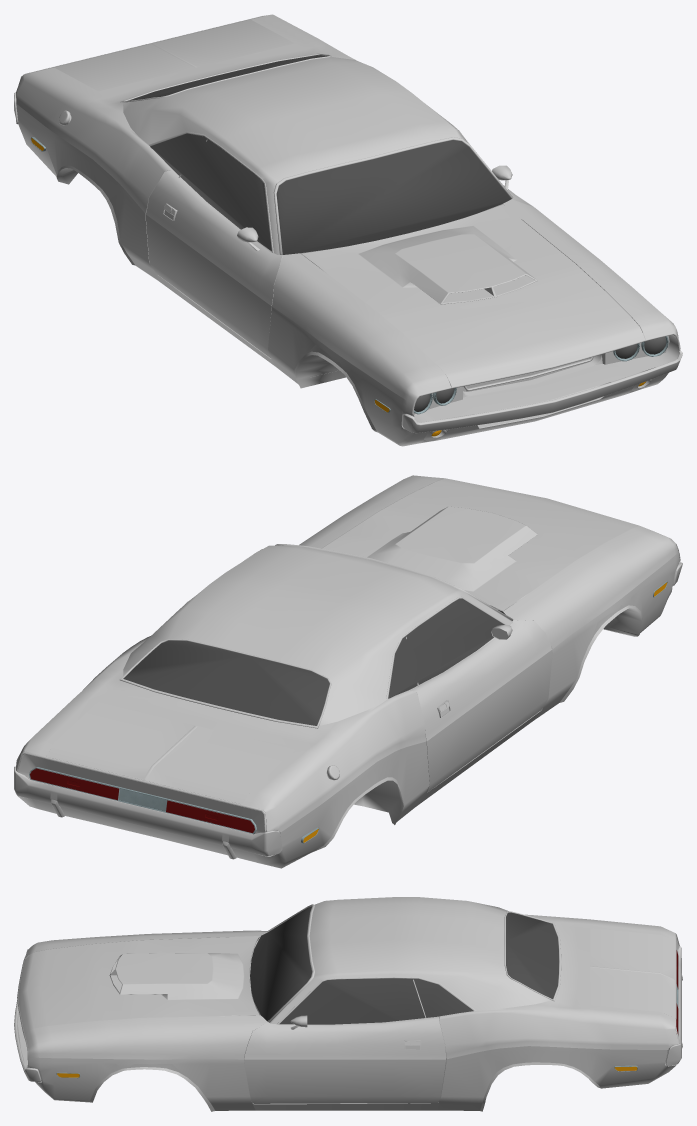
File: car 5.fbx
The picture shows the model from 3 angles, top to bottom: view 1: azimuth 30°, elevation 25°; view 2: azimuth 150°, elevation 25°; view 3: azimuth 270°, elevation 25°; orthographic projection. The views are drawn at different scales.
Visible parts, largest first — view 1: body1, light; view 2: body1, light; view 3: body1, light.
Boxes of the visible parts, bbox=[...] form: body1: bbox=[14, 14, 682, 446]; light: bbox=[30, 137, 668, 436]; body1: bbox=[14, 475, 682, 868]; light: bbox=[29, 581, 667, 843]; body1: bbox=[14, 897, 682, 1111]; light: bbox=[56, 950, 678, 1078].
Bounding box in the file's own units: 1.27 × 0.6968 × 3.19.
